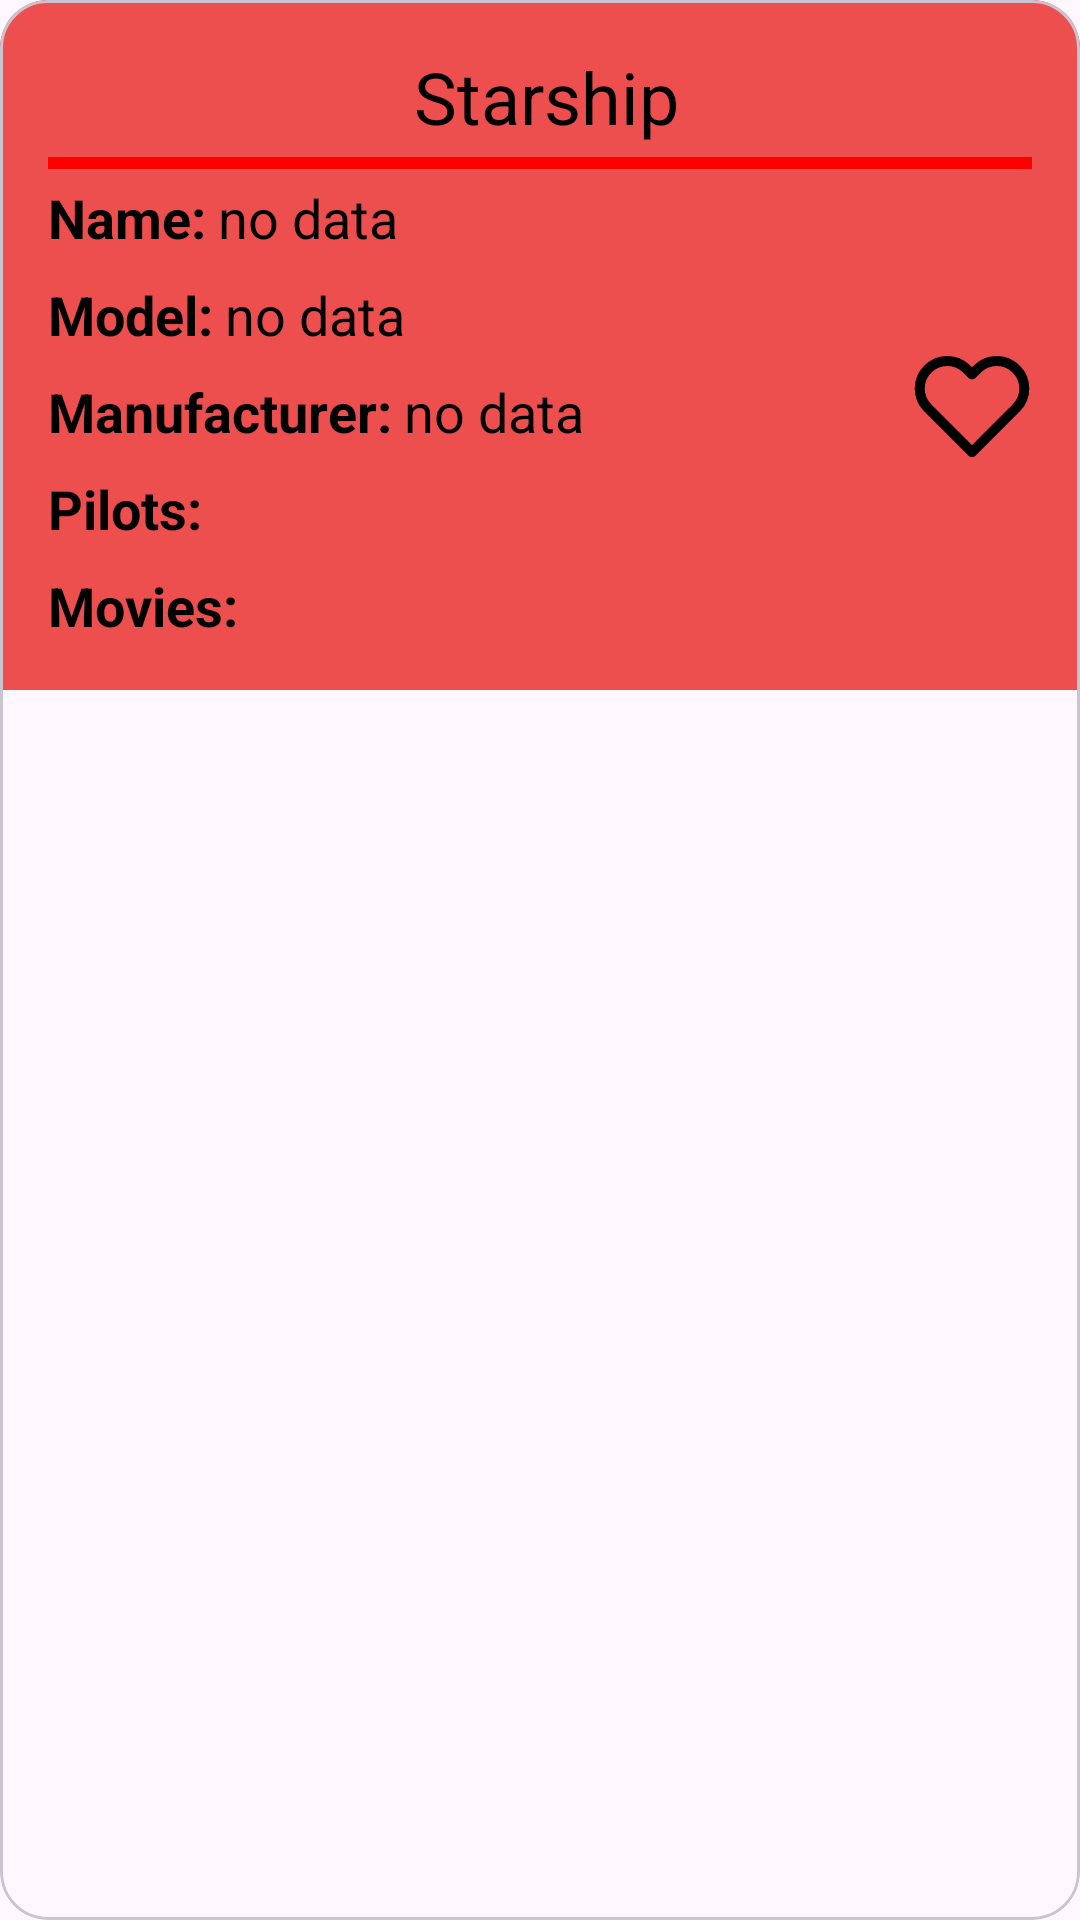

Icon click points for this 1080×1920 phone screenshot, format point (x, y):
like: point (972, 406)
